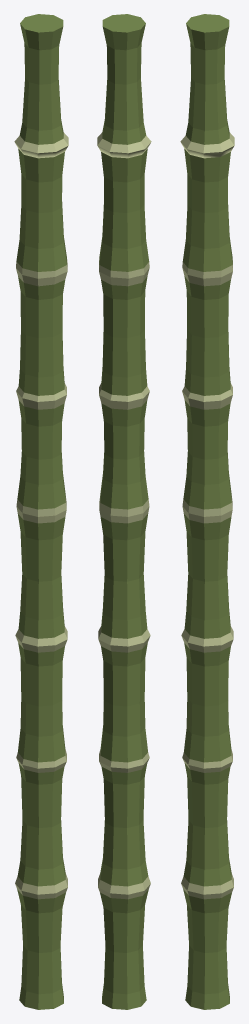
Rendered from bamboo.fbx.
3 views of the same model, side by side, from view 1: azimuth 90°, elevation 25°; view 2: azimuth 150°, elevation 25°; view 3: azimuth 330°, elevation 25° (orthographic).
Visible parts, largest first — view 1: Circle.001; view 2: Circle.001; view 3: Circle.001.
Part boxes in pixels (x1=…): Circle.001: x1=14, y1=14, x2=68, y2=1009; Circle.001: x1=97, y1=14, x2=151, y2=1009; Circle.001: x1=180, y1=14, x2=234, y2=1009.
Size of the model in its own units: 48.12 by 942 by 47.39.
